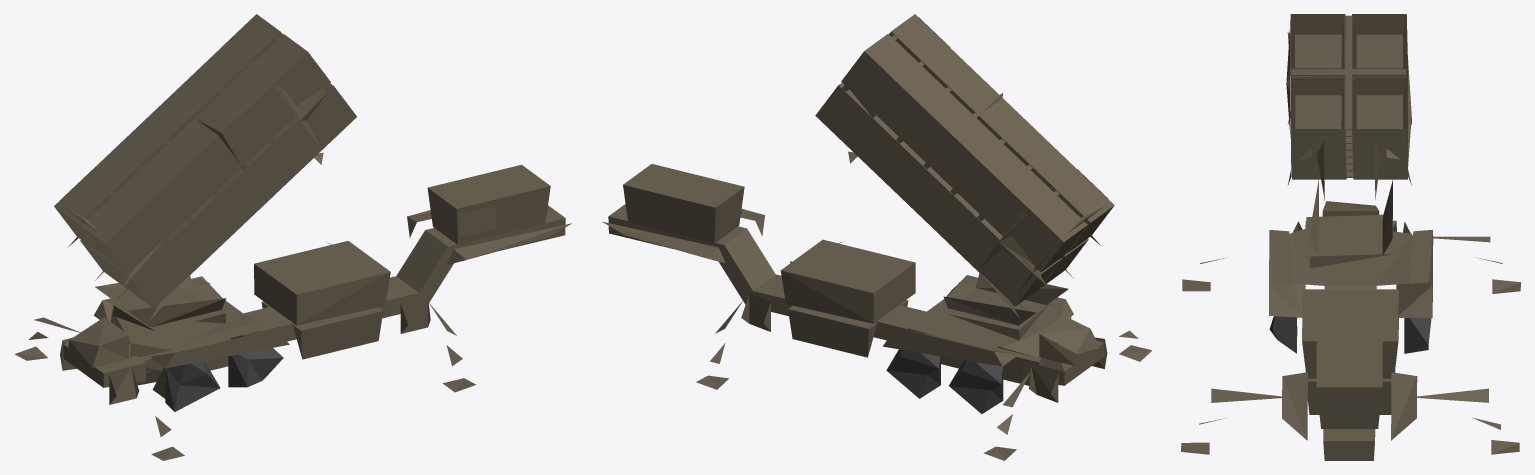
File: patriot.lod1.glb
3 views of the same model, side by side, from view 1: azimuth 30°, elevation 25°; view 2: azimuth 150°, elevation 25°; view 3: azimuth 270°, elevation 25° (orthographic). The views are drawn at different scales.
Visible parts, largest first — view 1: Object_2; view 2: Object_2; view 3: Object_2.
Part boxes in pixels (box(x1,y1,x2,y2)): Object_2: box(14, 14, 571, 460); Object_2: box(602, 14, 1151, 460); Object_2: box(1181, 14, 1520, 460).
Size of the model in its own units: 10.48 by 6.97 by 5.73.
